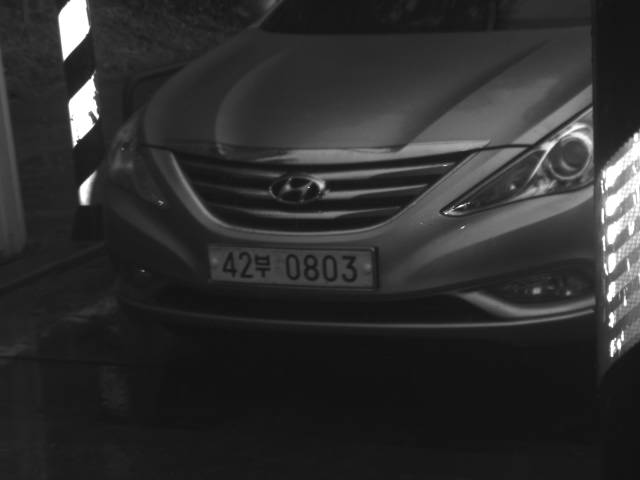car: (97, 1, 596, 359)
plate: (205, 243, 380, 290)
